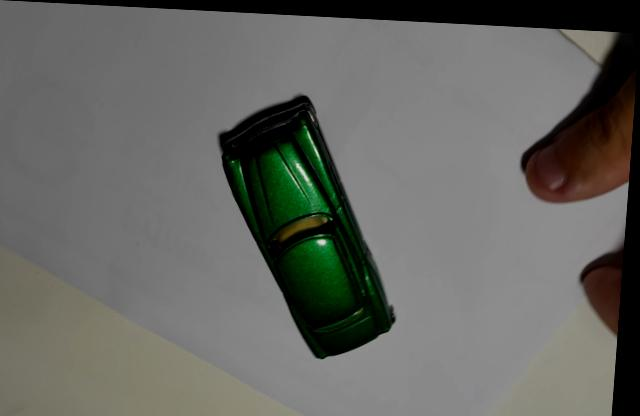06_MASERATI: (219, 90, 401, 354)
